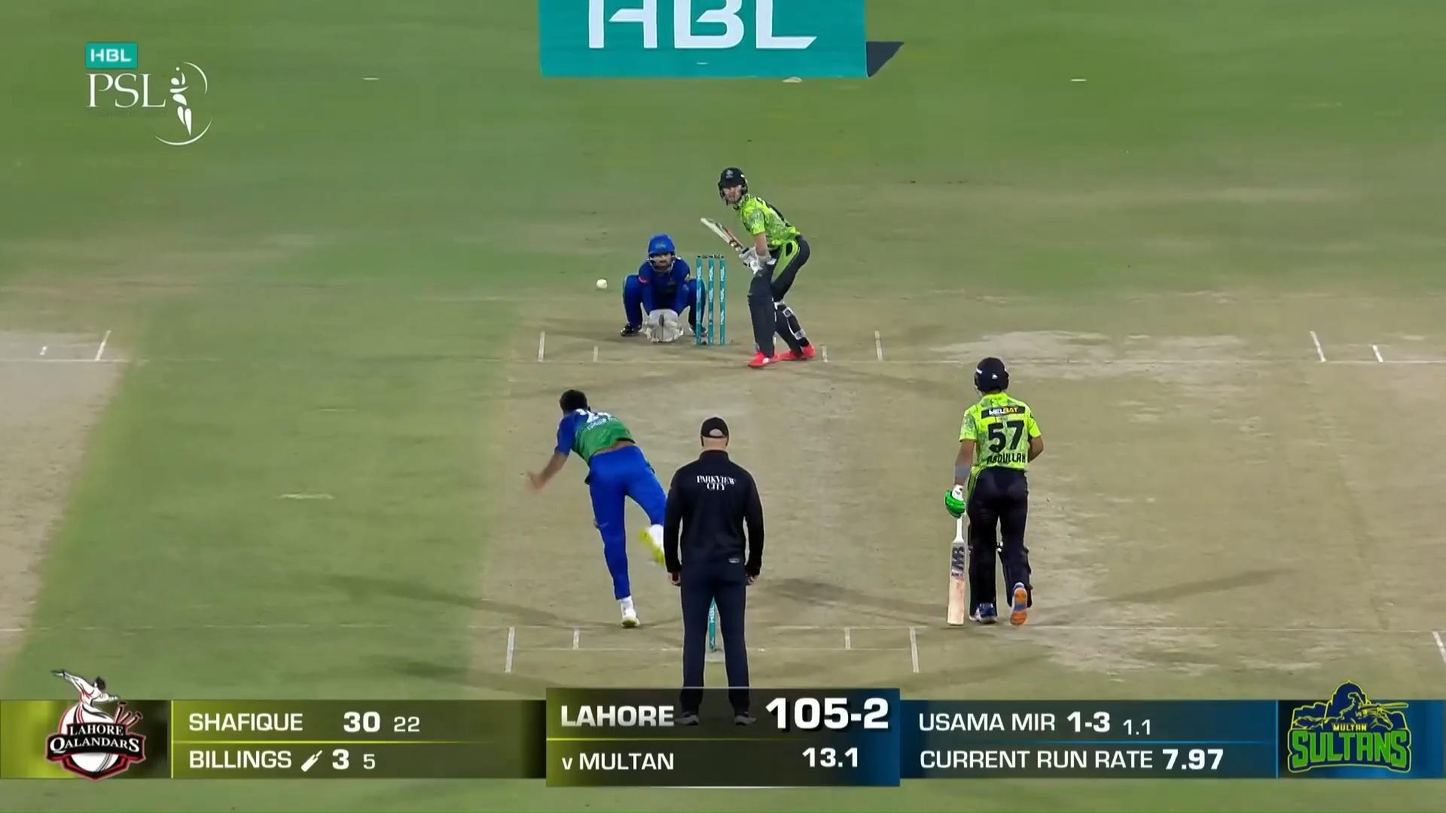batsman: (700, 166, 815, 370)
